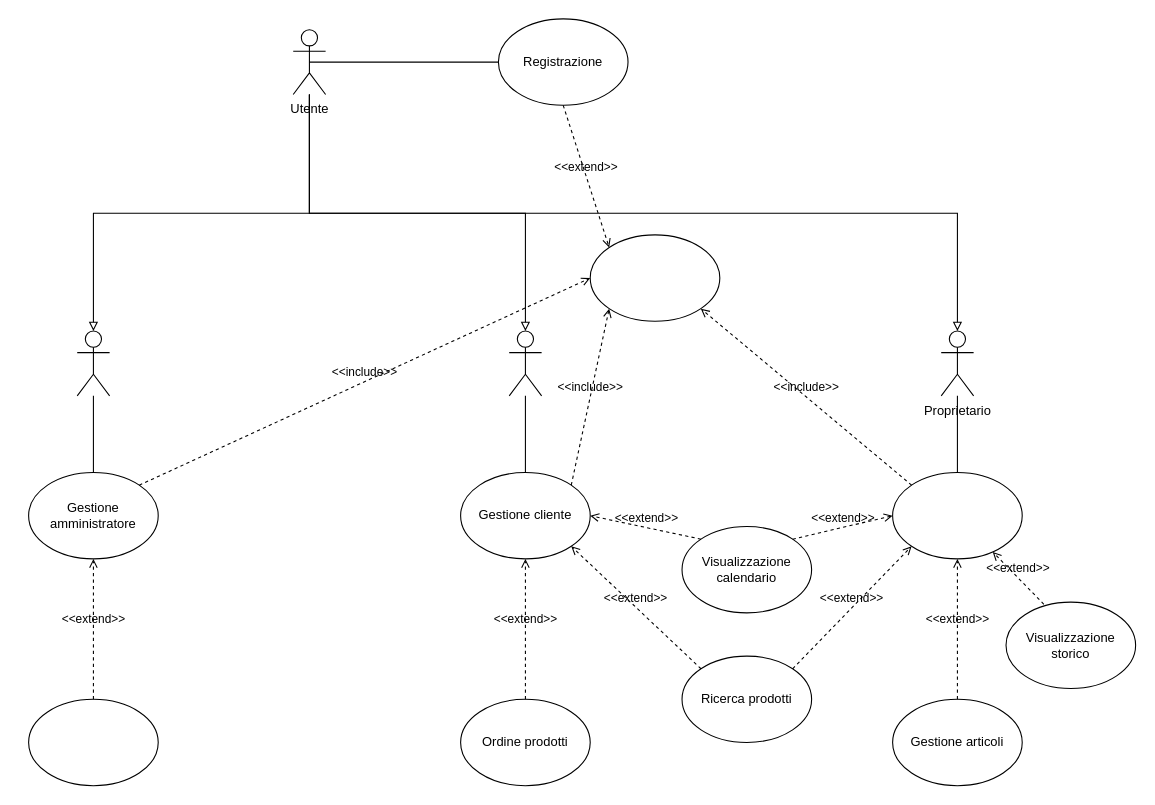
The diagram is 1155 pixels wide and 805 high, and some of its shapes have lost their labels. Each missing label, with the centre of its shape:
"Amministratore di sistema" goes at pixel 93 363.
"Cliente" goes at pixel 525 363.
"Gestione proprietario" goes at pixel 957 515.
"Gestione utenti" goes at pixel 93 742.
"Login" goes at pixel 654 277.
